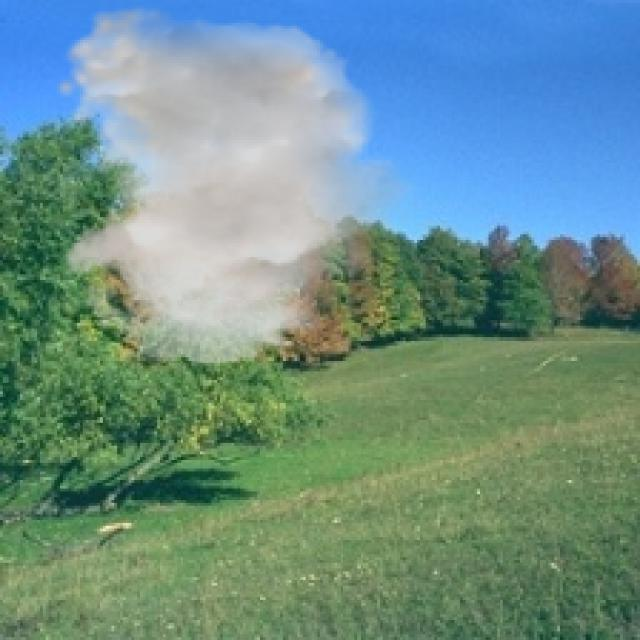Smoke: (54, 6, 423, 366)
